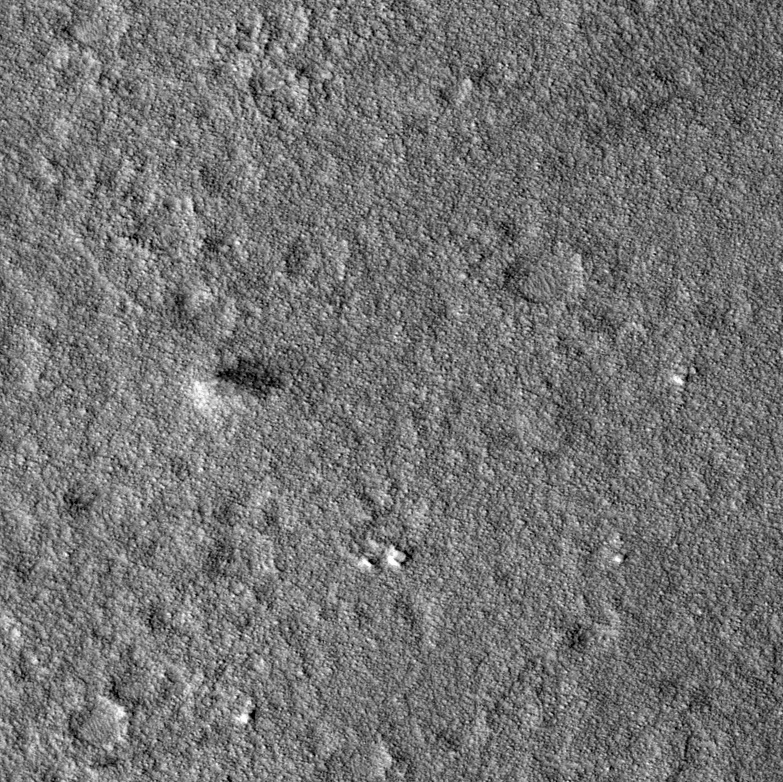dust_devil: (190, 354, 292, 412)
